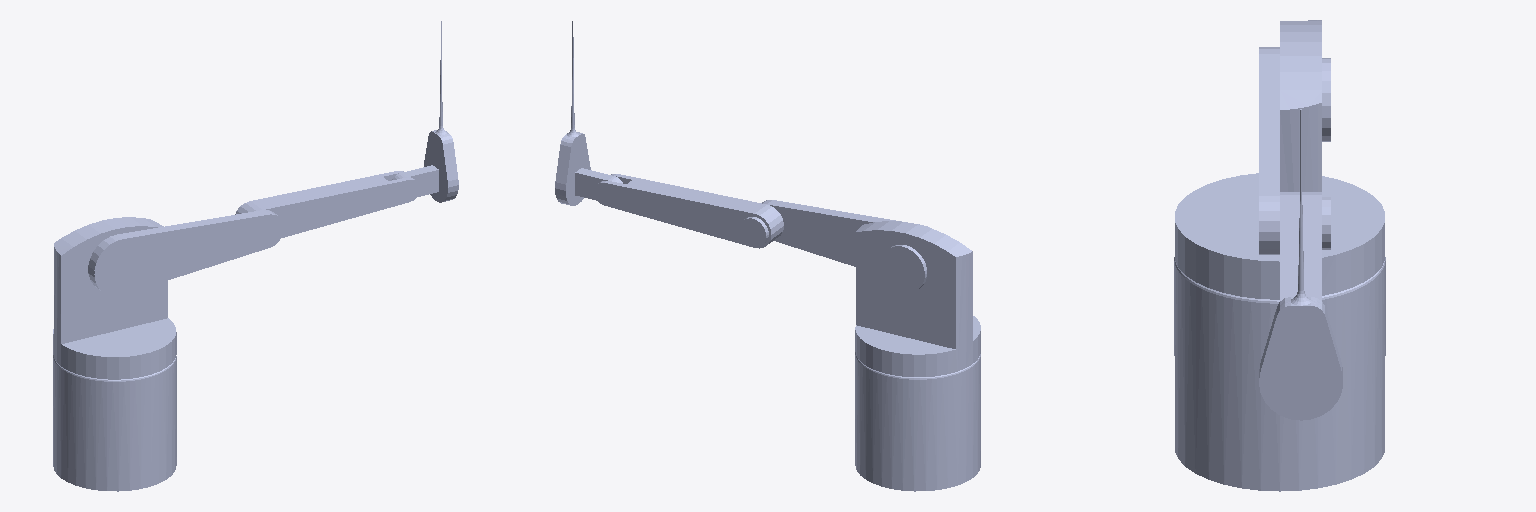
URDF robot description (robot):
<?xml version="1.0" ?>
<!-- =================================================================================== -->
<!-- |    This document was autogenerated by xacro from fin_xac.xacro                  | -->
<!-- |    EDITING THIS FILE BY HAND IS NOT RECOMMENDED                                 | -->
<!-- =================================================================================== -->
<!-- Name your robot here -->
<robot name="">
  <!-- Include your urdf files here -->
  <!-- Include Robot's urdf filepath -->
  <!-- Include Lidar's urdf filepath -->
  <link name="dummy_link">
  </link>
  <joint name="dummy_joint" type="fixed">
    <parent link="dummy_link"/>
    <child link="base"/>
    <origin rpy="0 0 1.5708" xyz="0 0 0"/>
    <dynamics damping="1" friction="10"/>
  </joint>
  <link name="base">
    <inertial>
      <origin rpy="0 0 0" xyz="1.4664E-35 0.25663 4.3211E-18"/>
      <mass value="10"/>
      <inertia ixx="3.7675" ixy="-1.3499E-32" ixz="-6.0156E-34" iyy="3.0851" iyz="-7.7131E-18" izz="3.7675"/>
    </inertial>
    <visual>
      <origin rpy="0 0 0" xyz="0 0 0"/>
      <geometry>
        <mesh filename="package://finale/meshes/base.STL"/>
      </geometry>
      <material name="">
        <color rgba="0.79216 0.81961 0.93333 1"/>
      </material>
    </visual>
    <collision>
      <origin rpy="0 0 0" xyz="0 0 0"/>
      <geometry>
        <mesh filename="package://finale/meshes/base.STL"/>
      </geometry>
    </collision>
  </link>
  <link name="link1">
    <inertial>
      <origin rpy="0 0 0" xyz="-0.026185 0.19022 -1.0617E-09"/>
      <mass value="0.005"/>
      <inertia ixx="1" ixy="1" ixz="1" iyy="1" iyz="1" izz="1"/>
    </inertial>
    <visual>
      <origin rpy="0 0 0" xyz="0 0 0"/>
      <geometry>
        <mesh filename="package://finale/meshes/link1.STL"/>
      </geometry>
      <material name="">
        <color rgba="0.79216 0.81961 0.93333 1"/>
      </material>
    </visual>
    <collision>
      <origin rpy="0 0 0" xyz="0 0 0"/>
      <geometry>
        <mesh filename="package://finale/meshes/link1.STL"/>
      </geometry>
    </collision>
  </link>
  <joint name="j1" type="revolute">
    <origin rpy="1.5708 0 -3.1416" xyz="0 0 0.5"/>
    <parent link="base"/>
    <child link="link1"/>
    <axis xyz="0 1 0"/>
    <limit effort="100" lower="-3.14" upper="3.14" velocity="0.1"/>
    <dynamics damping="1" friction="1"/>
  </joint>
  <link name="link2">
    <inertial>
      <origin rpy="0 0 0" xyz="0.26245 1.1102E-16 0.0007544"/>
      <mass value="0.005"/>
      <inertia ixx="10" ixy="10" ixz="10" iyy="10" iyz="10" izz="10"/>
    </inertial>
    <visual>
      <origin rpy="0 0 0" xyz="0 0 0"/>
      <geometry>
        <mesh filename="package://finale/meshes/link2.STL"/>
      </geometry>
      <material name="">
        <color rgba="0.79216 0.81961 0.93333 1"/>
      </material>
    </visual>
    <collision>
      <origin rpy="0 0 0" xyz="0 0 0"/>
      <geometry>
        <mesh filename="package://finale/meshes/link2.STL"/>
      </geometry>
    </collision>
  </link>
  <joint name="j2" type="revolute">
    <origin rpy="3.1416 1.5708 0" xyz="0 0.405 0"/>
    <parent link="link1"/>
    <child link="link2"/>
    <axis xyz="0 0 1"/>
    <limit effort="100" lower="-3.14" upper="3.14" velocity="0.1"/>
    <dynamics damping="1" friction="1"/>
  </joint>
  <link name="link3">
    <inertial>
      <origin rpy="0 0 0" xyz="0.30975 0 0.05"/>
      <mass value="0.005"/>
      <inertia ixx="10" ixy="10" ixz="10" iyy="10" iyz="10" izz="10"/>
    </inertial>
    <visual>
      <origin rpy="0 0 0" xyz="0 0 0"/>
      <geometry>
        <mesh filename="package://finale/meshes/link3.STL"/>
      </geometry>
      <material name="">
        <color rgba="0.79216 0.81961 0.93333 1"/>
      </material>
    </visual>
    <collision>
      <origin rpy="0 0 0" xyz="0 0 0"/>
      <geometry>
        <mesh filename="package://finale/meshes/link3.STL"/>
      </geometry>
    </collision>
  </link>
  <joint name="j3" type="revolute">
    <origin rpy="0 0 0" xyz="0.69 0 0"/>
    <parent link="link2"/>
    <child link="link3"/>
    <axis xyz="0 0 1"/>
    <limit effort="100" lower="-3.14" upper="3.14" velocity="0.1"/>
    <dynamics damping="1" friction="1"/>
  </joint>
  <link name="link4">
    <inertial>
      <origin rpy="0 0 0" xyz="0.071451 0 0.025"/>
      <mass value="0.005"/>
      <inertia ixx="10" ixy="10" ixz="10" iyy="10" iyz="10" izz="10"/>
    </inertial>
    <visual>
      <origin rpy="0 0 0" xyz="0 0 0"/>
      <geometry>
        <mesh filename="package://finale/meshes/link4.STL"/>
      </geometry>
      <material name="">
        <color rgba="0.79216 0.81961 0.93333 1"/>
      </material>
    </visual>
    <collision>
      <origin rpy="0 0 0" xyz="0 0 0"/>
      <geometry>
        <mesh filename="package://finale/meshes/link4.STL"/>
      </geometry>
    </collision>
  </link>
  <joint name="j4" type="revolute">
    <origin rpy="0 0 0" xyz="0.69 0 0.025"/>
    <parent link="link3"/>
    <child link="link4"/>
    <axis xyz="0 0 1"/>
    <limit effort="100" lower="-3.14" upper="3.14" velocity="0.1"/>
    <dynamics damping="1" friction="1"/>
  </joint>
  <link name="laser">
    <inertial>
      <origin rpy="0 0 0" xyz="0.04914 -0.025173 1.4399E-09"/>
      <mass value="0.005"/>
      <inertia ixx="10" ixy="10" ixz="10" iyy="10" iyz="10" izz="10"/>
    </inertial>
    <visual>
      <origin rpy="0 0 0" xyz="0 0 0"/>
      <geometry>
        <mesh filename="package://finale/meshes/laser.STL"/>
      </geometry>
      <material name="">
        <color rgba="0.79216 0.81961 0.93333 1"/>
      </material>
    </visual>
    <collision>
      <origin rpy="0 0 0" xyz="0 0 0"/>
      <geometry>
        <mesh filename="package://finale/meshes/laser.STL"/>
      </geometry>
    </collision>
  </link>
  <joint name="j5" type="revolute">
    <origin rpy="-3.1416 0 -1.5708" xyz="0.15 0 0.025"/>
    <parent link="link4"/>
    <child link="laser"/>
    <axis xyz="0 1 0"/>
    <limit effort="100" lower="-3.14" upper="3.14" velocity="0.1"/>
    <dynamics damping="1" friction="1"/>
  </joint>
  <transmission name="joint_1">
    <type>transmission_interface/SimpleTransmission</type>
    <joint name="j1">
      <hardwareInterface>hardware_interface/EffortJointInterface</hardwareInterface>
    </joint>
    <actuator name="motor_1">
      <hardwareInterface>hardware_interface/EffortJointInterface</hardwareInterface>
      <mechanicalReduction>1</mechanicalReduction>
    </actuator>
  </transmission>
  <transmission name="joint_2">
    <type>transmission_interface/SimpleTransmission</type>
    <joint name="j2">
      <hardwareInterface>hardware_interface/EffortJointInterface</hardwareInterface>
    </joint>
    <actuator name="motor_2">
      <hardwareInterface>hardware_interface/EffortJointInterface</hardwareInterface>
      <mechanicalReduction>1</mechanicalReduction>
    </actuator>
  </transmission>
  <transmission name="joint_3">
    <type>transmission_interface/SimpleTransmission</type>
    <joint name="j3">
      <hardwareInterface>hardware_interface/EffortJointInterface</hardwareInterface>
    </joint>
    <actuator name="motor_3">
      <hardwareInterface>hardware_interface/EffortJointInterface</hardwareInterface>
      <mechanicalReduction>1</mechanicalReduction>
    </actuator>
  </transmission>
  <transmission name="joint_4">
    <type>transmission_interface/SimpleTransmission</type>
    <joint name="j4">
      <hardwareInterface>hardware_interface/EffortJointInterface</hardwareInterface>
    </joint>
    <actuator name="motor_4">
      <hardwareInterface>hardware_interface/EffortJointInterface</hardwareInterface>
      <mechanicalReduction>1</mechanicalReduction>
    </actuator>
  </transmission>
  <transmission name="joint_5">
    <type>transmission_interface/SimpleTransmission</type>
    <joint name="j5">
      <hardwareInterface>hardware_interface/EffortJointInterface</hardwareInterface>
    </joint>
    <actuator name="motor_5">
      <hardwareInterface>hardware_interface/EffortJointInterface</hardwareInterface>
      <mechanicalReduction>1</mechanicalReduction>
    </actuator>
  </transmission>
  <link name="base_laser">
    <inertial>
      <origin rpy="0 0 0" xyz="-0.00029774 0.0066667 0.00013047"/>
      <mass value="0.15717"/>
      <inertia ixx="6.7885E-05" ixy="-1.3987E-07" ixz="-8.1554E-07" iyy="0.00013173" iyz="-9.0932E-08" izz="7.1972E-05"/>
    </inertial>
    <visual>
      <origin rpy="0 0 0" xyz="0 0 0"/>
      <geometry>
        <mesh filename="package://ydlidar_ros/meshes/ydlidar.dae"/>
      </geometry>
      <material name="">
        <color rgba="0.64706 0.61961 0.58824 1"/>
      </material>
    </visual>
    <collision>
      <origin rpy="0 0 0" xyz="0 0 0"/>
      <geometry>
        <mesh filename="package://ydlidar_ros/meshes/ydlidar.dae"/>
      </geometry>
    </collision>
  </link>
  <link name="laser_frame">
    <inertial>
      <origin rpy="0 0 0" xyz="-0.00036659 0.00064155 -0.00027052"/>
      <mass value="0.25482"/>
      <inertia ixx="8.9194E-05" ixy="1.8116E-07" ixz="3.6435E-08" iyy="0.00018279" iyz="2.423E-07" izz="0.00011103"/>
    </inertial>
    <!--visual>
      <origin
        xyz="0 0 0"
        rpy="0 0 0" />
      <geometry>
        <mesh
          filename="package://ydlidar_ros/meshes/ydlidar.dae" />
      </geometry>
      <material
        name="">
        <color
          rgba="0.64706 0.61961 0.58824 1" />
      </material>
    </visual-->
    <!--collision>
      <origin
        xyz="0 0 0"
        rpy="0 0 0" />
      <geometry>
        <mesh
          filename="package://ydlidar_ros/meshes/ydlidar.dae" />
      </geometry>
    </collision-->
  </link>
  <joint name="laser_joint" type="fixed">
    <origin rpy="0 0 0" xyz="0 0 0.03172"/>
    <parent link="base_laser"/>
    <child link="laser_frame"/>
    <axis xyz="0 0 0"/>
  </joint>
  <!-- Add your gazebo sensors here -->
  <gazebo reference="base_laser">
    <sensor name="head_hokuyo_sensor" type="ray">
      <pose>0 0 0 0 0 0</pose>
      <visualize>false</visualize>
      <update_rate>40</update_rate>
      <ray>
        <scan>
          <horizontal>
            <samples>720</samples>
            <resolution>1</resolution>
            <min_angle>-1.570796</min_angle>
            <max_angle>1.570796</max_angle>
          </horizontal>
        </scan>
        <range>
          <min>0.8</min>
          <max>30.0</max>
          <resolution>0.01</resolution>
        </range>
        <noise>
          <type>gaussian</type>
          <!-- Noise parameters based on published spec for Hokuyo laser
               achieving "+-30mm" accuracy at range < 10m.  A mean of 0.0m and
               stddev of 0.01m will put 99.7% of samples within 0.03m of the true
               reading. -->
          <mean>0.0</mean>
          <stddev>0.01</stddev>
        </noise>
      </ray>
      <plugin filename="libgazebo_ros_laser.so" name="gazebo_ros_head_hokuyo_controller">
        <topicName>/laser/scan</topicName>
        <frameName>laser_frame</frameName>
      </plugin>
    </sensor>
  </gazebo>
  <!--  Gazebo plugin for control here is already added for you -->
  <gazebo>
    <plugin filename="libgazebo_ros_control.so" name="gazebo_ros_control">
      <robotNamespace>/finalec</robotNamespace>
      <robotSimType>gazebo_ros_control/DefaultRobotHWSim</robotSimType>
      <legacyModeNS>true</legacyModeNS>
    </plugin>
  </gazebo>
  <!-- Create a joint between your robot and sensor -->
  <joint name="sensor_joint" type="fixed">
    <parent link="dummy_link"/>
    <child link="base_laser"/>
    <origin xyz="0.4 0 0"/>
  </joint>
</robot>

--- What the picture shows (computed from the rendered views, not written in the file) ---
The picture shows the robot from 3 angles, left to right: view 1: azimuth 30°, elevation 25°; view 2: azimuth 150°, elevation 25°; view 3: azimuth 270°, elevation 25°; orthographic projection.
Robot: robot — 9 links, 8 joints (5 revolute, 3 fixed); root link dummy_link; default pose: every joint at zero.
Visible links, largest first — view 1: base, link1, link2, link3, laser, link4; view 2: link1, base, link3, link2, laser, link4; view 3: base, link1, laser, link2, link3.
Boxes of the visible links, x1,y1,x2,y2 form: base: (53,355,176,491); link1: (53,217,176,379); link2: (88,203,283,295); link3: (236,171,420,237); laser: (424,21,458,202); link4: (392,165,438,196); link1: (855,221,980,376); base: (855,352,980,491); link3: (594,174,783,248); link2: (739,200,929,292); laser: (555,21,590,205); link4: (575,168,622,200); base: (1174,257,1385,491); link1: (1175,20,1384,299); laser: (1259,109,1342,420); link2: (1259,47,1330,254); link3: (1280,192,1321,300).
Size in the robot's own frame: 1.83 by 0.5 by 1.6 metres.
Meshes: 7 distinct files referenced, 6 mesh visuals loaded (6 binary STL); not drawn: 1 (reference not matched to a file when rendering).
